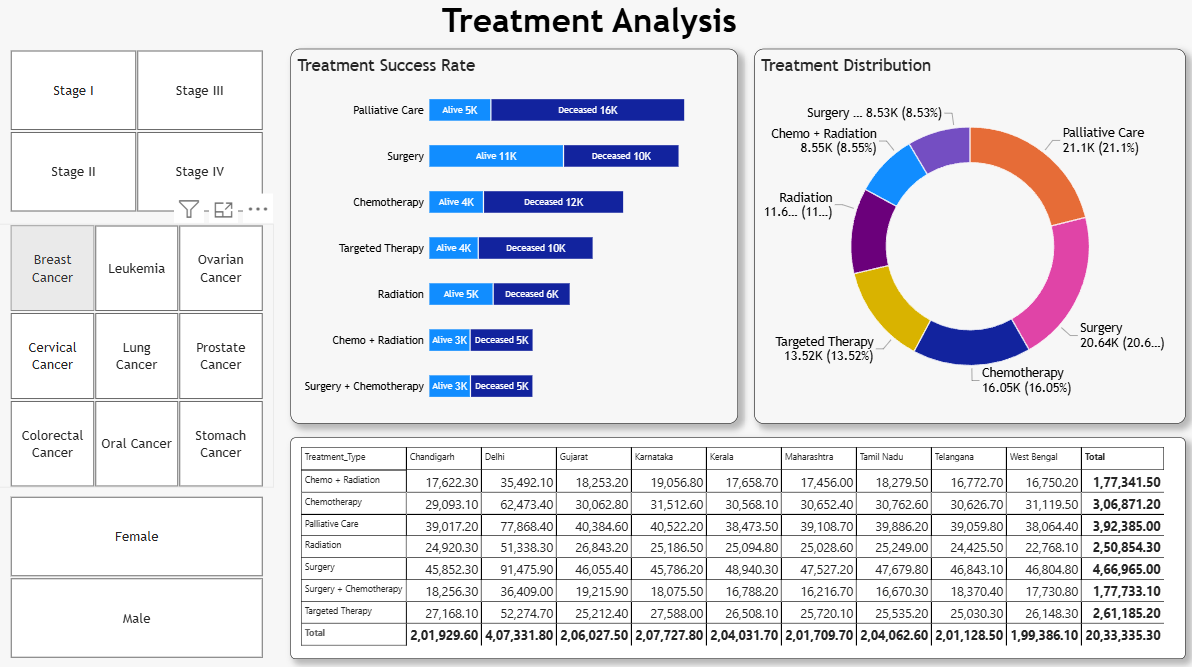

What the dashboard file says about the page in this screenshot:
{"tool":"powerbi","page":{"name":"Treatment Analysis","canvas":[1920,1080],"ordinal":3},"visuals":[{"type":"textbox","box":[710,0,500,78],"z":0},{"type":"pivotTable","fields":{"Rows":["cancer_patients.Treatment_Type"],"Columns":["cancer_patients.State"],"Values":["Sum(cancer_patients.Survival_Months)"]},"box":[468,700,1432,354],"z":1000},{"type":"donutChart","title":"Treatment Distribution","fields":{"Category":["cancer_patients.Treatment_Type"],"Y":["CountNonNull(cancer_patients.Patient_ID)"]},"box":[1210,78,690,600],"z":2000},{"type":"barChart","title":"Treatment Success Rate","fields":{"Y":["CountNonNull(cancer_patients.Patient_ID)"],"Category":["cancer_patients.Treatment_Type"],"Series":["cancer_patients.Status"]},"box":[468,78,716,600],"z":3000},{"type":"slicer","fields":{"Values":["cancer_patients.Stage"]},"box":[0,78,442,262],"z":4000},{"type":"slicer","fields":{"Values":["cancer_patients.Cancer_Type"]},"box":[0,358,442,422],"z":4001},{"type":"slicer","fields":{"Values":["cancer_patients.Gender"]},"box":[0,792,442,262],"z":4002}]}

Visuals, with their boxes in screenshot pixels (x1, y1, x2, y2), scaled from the page's 1920x1080 canvas onto the 1192x667 screenshot:
textbox: bbox=[441, 0, 751, 48]
pivotTable - cancer_patients.Treatment_Type x cancer_patients.State: bbox=[291, 432, 1180, 651]
"Treatment Distribution" donutChart: bbox=[751, 48, 1180, 419]
"Treatment Success Rate" barChart: bbox=[291, 48, 735, 419]
slicer - cancer_patients.Stage: bbox=[0, 48, 274, 210]
slicer - cancer_patients.Cancer_Type: bbox=[0, 221, 274, 482]
slicer - cancer_patients.Gender: bbox=[0, 489, 274, 651]
